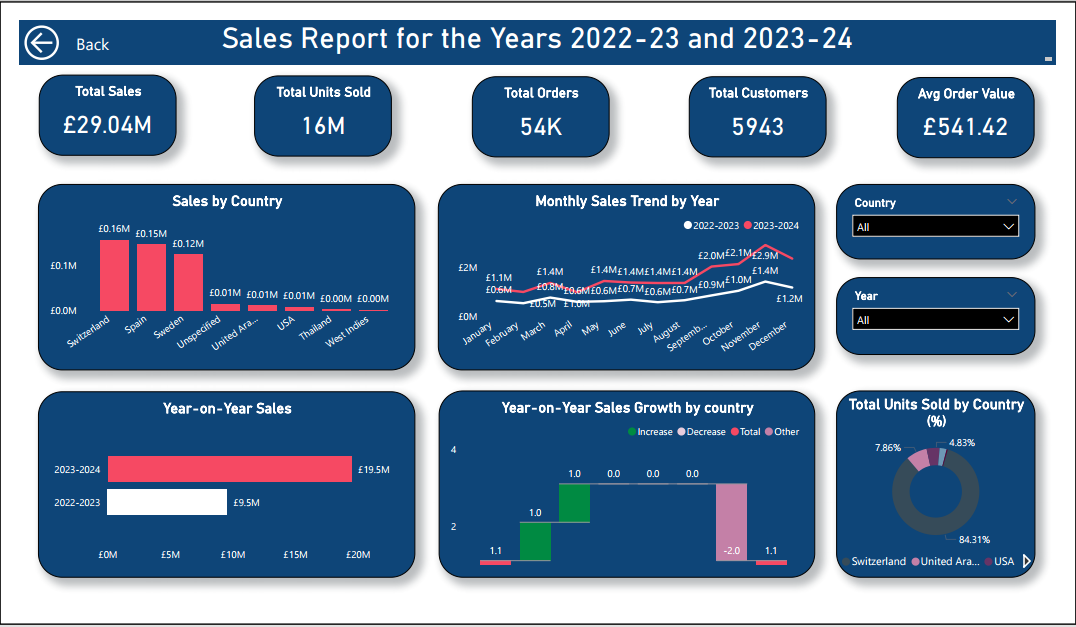

The page's visual inventory and layout, read from the dashboard file:
{"tool":"powerbi","page":{"name":"Sales Analysis Report","canvas":[1280,720],"ordinal":1},"visuals":[{"type":"card","title":"Total Sales ","fields":{"Values":["Fact_Transactions.Total Sales (FT)"]},"box":[23.6,66.7,170,100],"z":0},{"type":"textbox","title":"Sales Report for the Years 2022-23 and 2023-24","box":[0,0,1280.3,55],"z":1000},{"type":"card","title":"Total Customers","fields":{"Values":["Fact_Transactions.Total Customers (FT)"]},"box":[827,69.5,170,100],"z":2000},{"type":"card","title":"Avg Order Value","fields":{"Values":["Fact_Transactions.AOV"]},"box":[1084.1,70,170.2,100.2],"z":3000},{"type":"card","title":"Total Orders","fields":{"Values":["Year 2022-2023.Total Orders"]},"box":[558.7,69.5,170,100],"z":4000},{"type":"card","title":"Total Units Sold","fields":{"Values":["Fact_Transactions.Total Units (FT)"]},"box":[290.5,68.1,170,100],"z":5000},{"type":"lineChart","title":"Monthly Sales Trend by Year","fields":{"Series":["Fact_Transactions.Source Year"],"Y":["Fact_Transactions.Total Sales (FT)"],"Category":["Fact_Transactions.InvoiceDate.Variation.Date Hierarchy.Month"]},"box":[517.2,201.7,465.7,230],"z":6000},{"type":"clusteredColumnChart","title":"Sales by Country","fields":{"Category":["Fact_Transactions.Country"],"Y":["Fact_Transactions.Total Sales (FT)"]},"box":[23.3,201.9,465.7,230],"z":7000},{"type":"clusteredBarChart","title":"Year-on-Year Sales","fields":{"Category":["Fact_Transactions.Source Year"],"Y":["Fact_Transactions.Total Sales (FT)","select"]},"box":[23.3,457.6,465.7,230],"z":8000},{"type":"donutChart","title":"Total Units Sold  by Country (%)","fields":{"Category":["Fact_Transactions.Country"],"Y":["Fact_Transactions.Total Units (FT)"]},"box":[1009.1,457.1,245.6,230.5],"z":9000},{"type":"slicer","fields":{"Values":["Fact_Transactions.Country"]},"box":[1009.1,201.9,245.6,93.3],"z":10000},{"type":"slicer","fields":{"Values":["Fact_Transactions.Source Year"]},"box":[1009.1,317.2,245.6,96.1],"z":11000},{"type":"waterfallChart","title":"Year-on-Year Sales Growth by country","fields":{"Category":["Fact_Transactions.Source Year"],"Y":["Fact_Transactions.Sales Growth %"],"Breakdown":["Fact_Transactions.Country"]},"box":[517.8,457.1,465.2,230.5],"z":12000},{"type":"actionButton","box":[0,0,114.9,55],"z":13000}]}

Visuals, with their boxes on the page's 1280x720 design canvas (x1, y1, x2, y2). These are canvas units, not pixel positions in the 1076x627 screenshot, which may show the page scaled, cropped or inside an application window:
"Total Sales " card: crop(24, 67, 194, 167)
"Sales Report for the Years 2022-23 and 2023-24" textbox: crop(0, 0, 1280, 55)
"Total Customers" card: crop(827, 70, 997, 170)
"Avg Order Value" card: crop(1084, 70, 1254, 170)
"Total Orders" card: crop(559, 70, 729, 170)
"Total Units Sold" card: crop(290, 68, 460, 168)
"Monthly Sales Trend by Year" lineChart: crop(517, 202, 983, 432)
"Sales by Country" clusteredColumnChart: crop(23, 202, 489, 432)
"Year-on-Year Sales" clusteredBarChart: crop(23, 458, 489, 688)
"Total Units Sold  by Country (%)" donutChart: crop(1009, 457, 1255, 688)
slicer - Fact_Transactions.Country: crop(1009, 202, 1255, 295)
slicer - Fact_Transactions.Source Year: crop(1009, 317, 1255, 413)
"Year-on-Year Sales Growth by country" waterfallChart: crop(518, 457, 983, 688)
actionButton: crop(0, 0, 115, 55)
